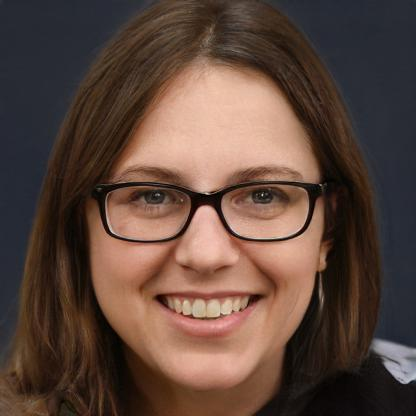glasses: (85, 176, 322, 248)
